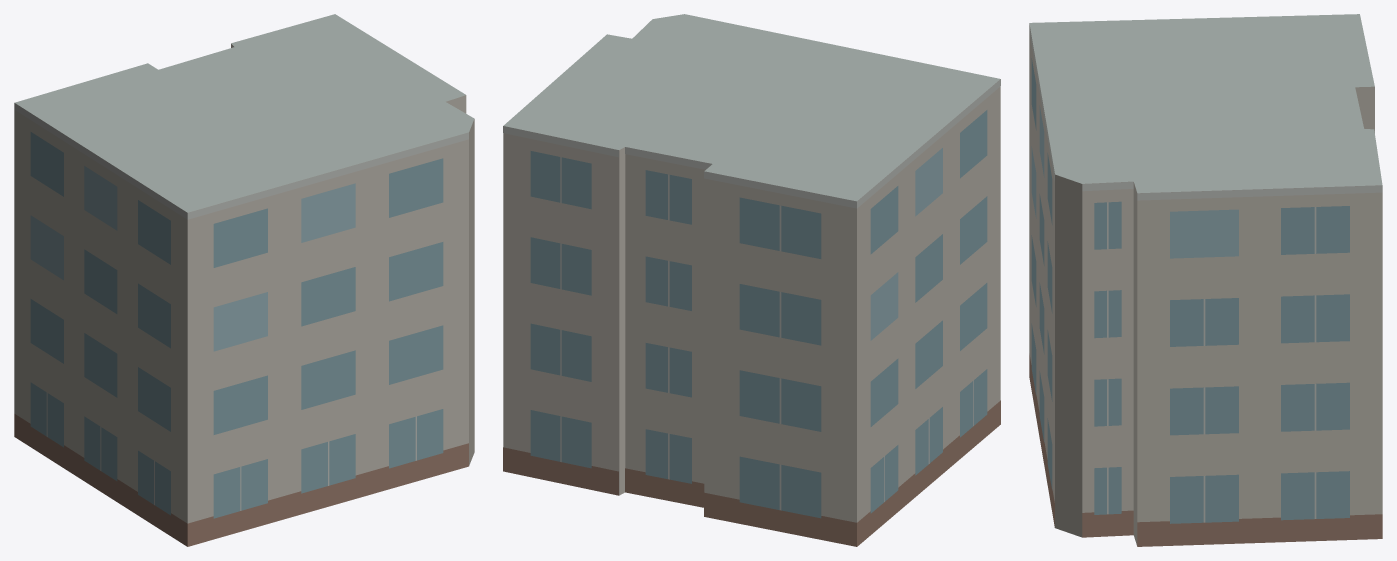
Rendered from survey-upis-32639397.glb.
3 views of the same model, side by side, from view 1: azimuth 30°, elevation 25°; view 2: azimuth 150°, elevation 25°; view 3: azimuth 270°, elevation 25° (orthographic). The views are drawn at different scales.
Visible parts, largest first — view 1: survey-upis-32639397.tmp; view 2: survey-upis-32639397.tmp; view 3: survey-upis-32639397.tmp.
Boxes of the visible parts, x1,y1,x2,y2 form: survey-upis-32639397.tmp: (14,14,474,546); survey-upis-32639397.tmp: (503,14,1000,546); survey-upis-32639397.tmp: (1029,14,1382,546).
Bounding box in the file's own units: 12.72 × 11.7 × 10.6.
